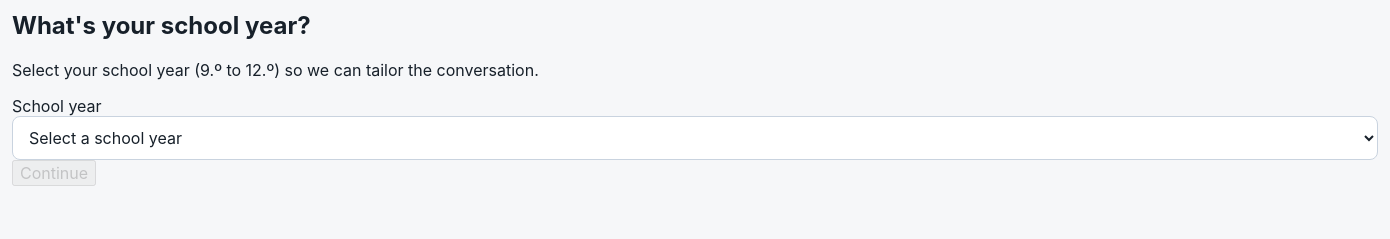
it: submits a valid school year and proceeds
Select "10.º ano" in the dropdown labelled "School year": [695, 138] box [12,116,1378,160]
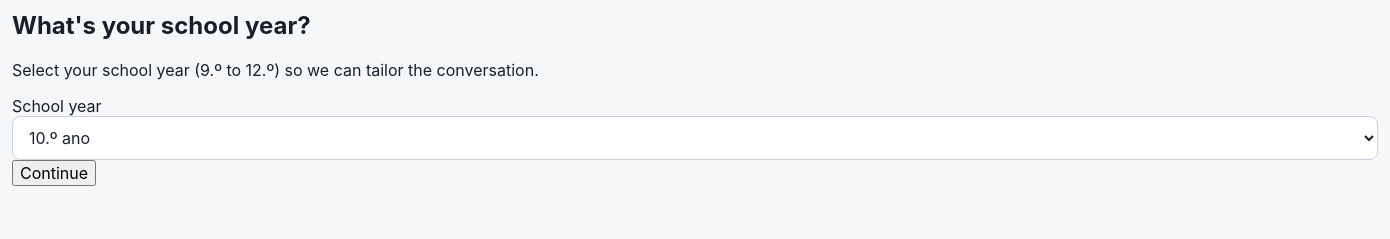
Click the button "Continue": [54, 173] box [12,160,96,186]
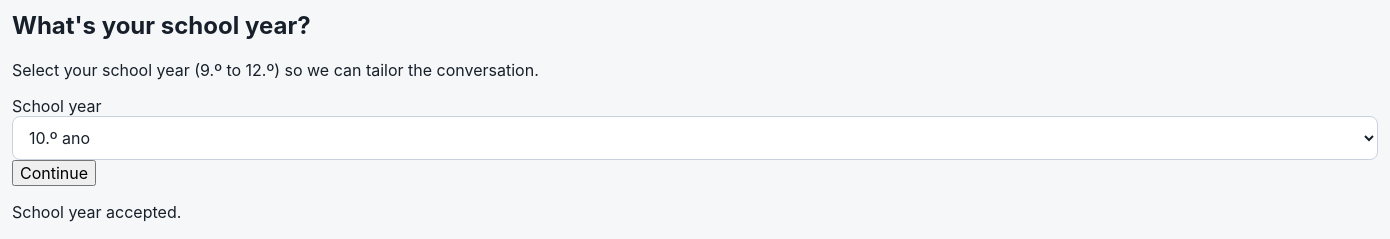
expect the text "School year accepted." is shown: met, box [12,202,181,222]
